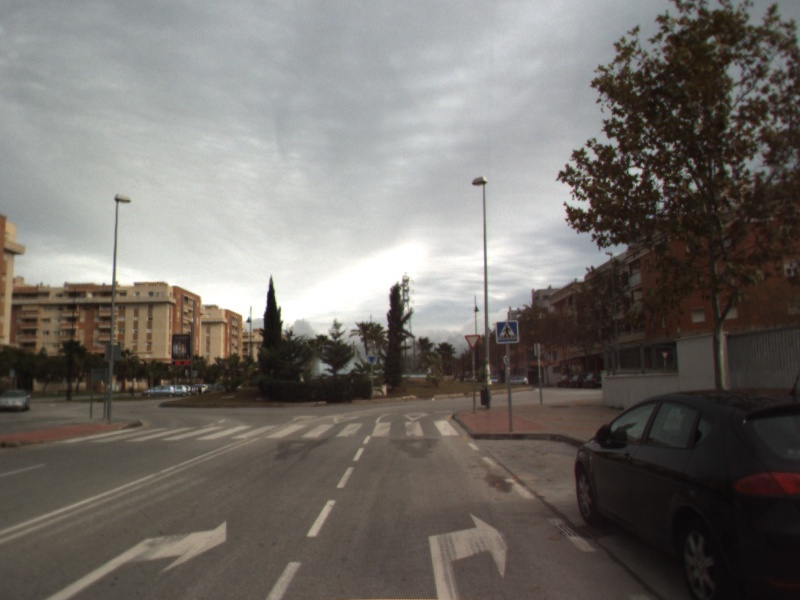RIGHT: (41, 516, 230, 600), (425, 509, 510, 600)
